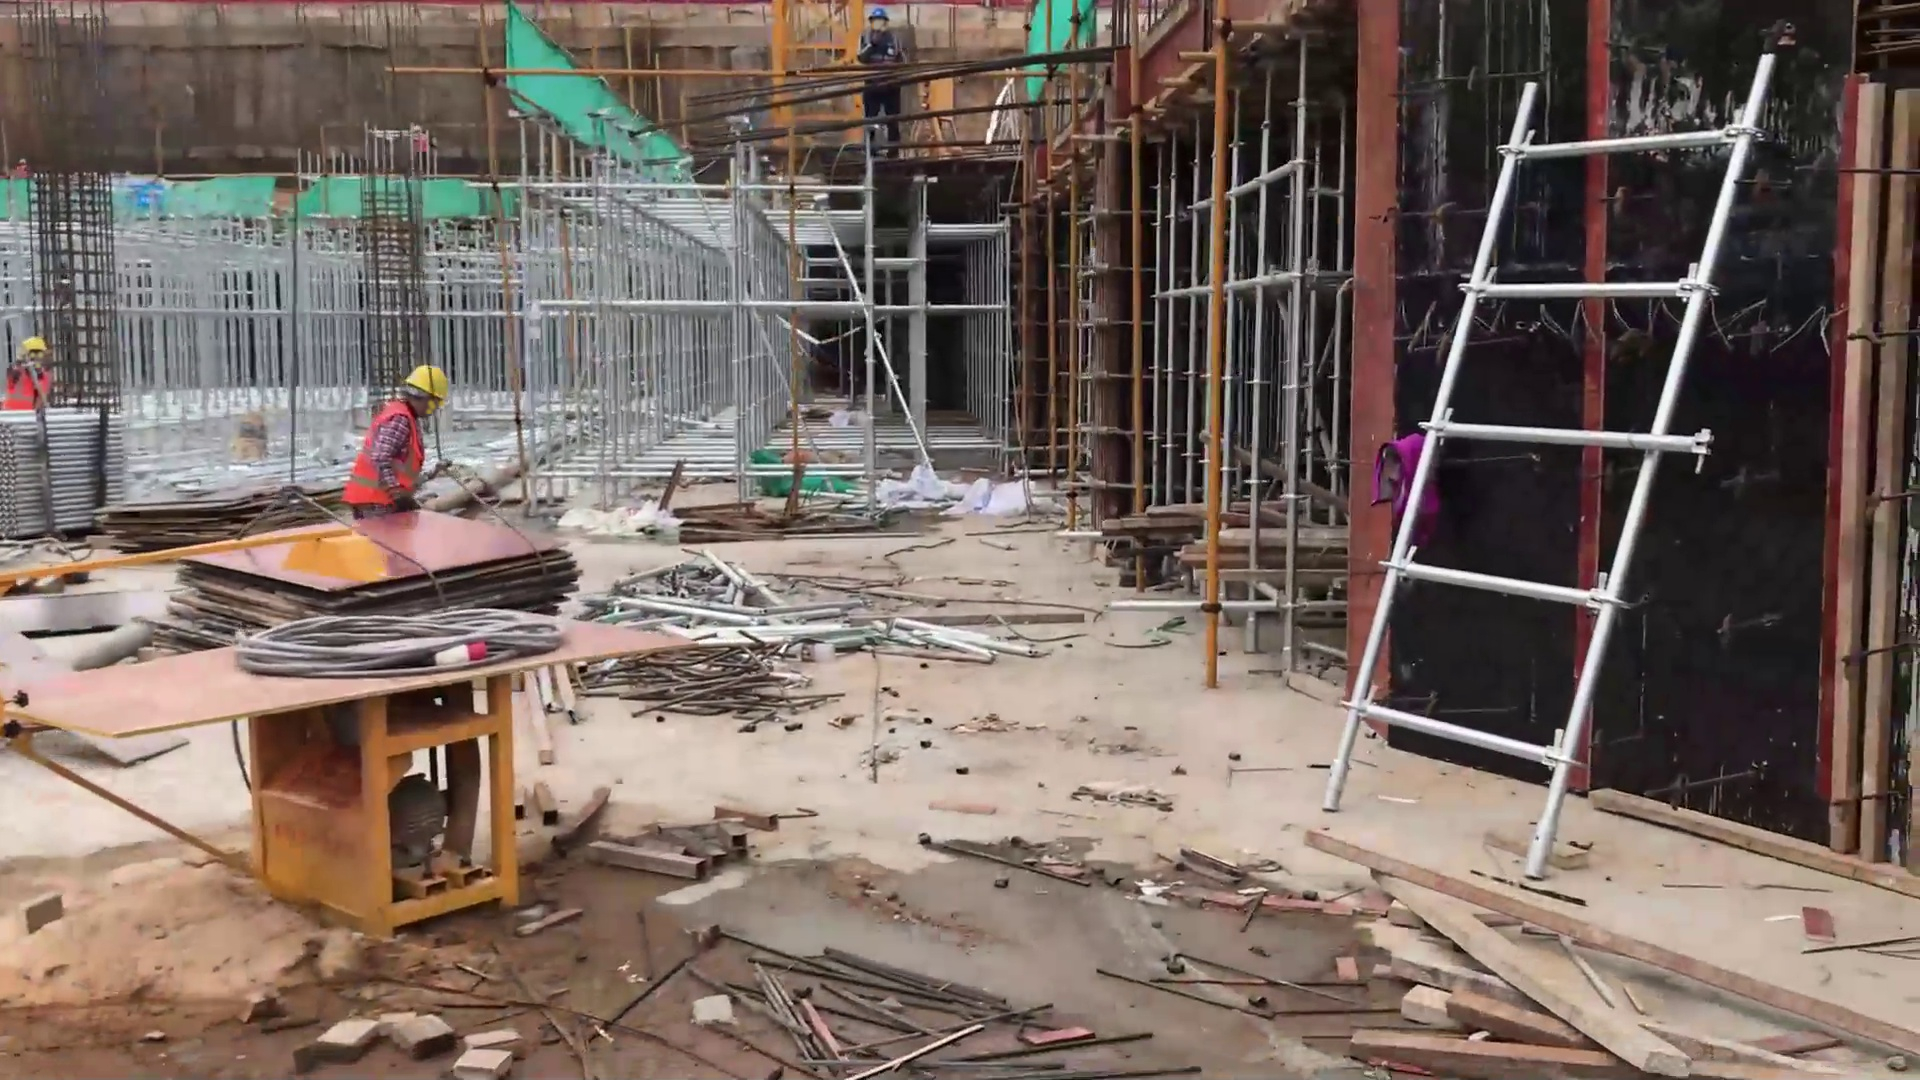helmet: (399, 361, 450, 408), (18, 333, 48, 357), (866, 8, 891, 23)
person: (340, 362, 450, 520), (855, 7, 913, 161), (1, 333, 55, 413)
vest: (340, 399, 425, 509), (1, 361, 51, 411), (859, 29, 902, 62)
